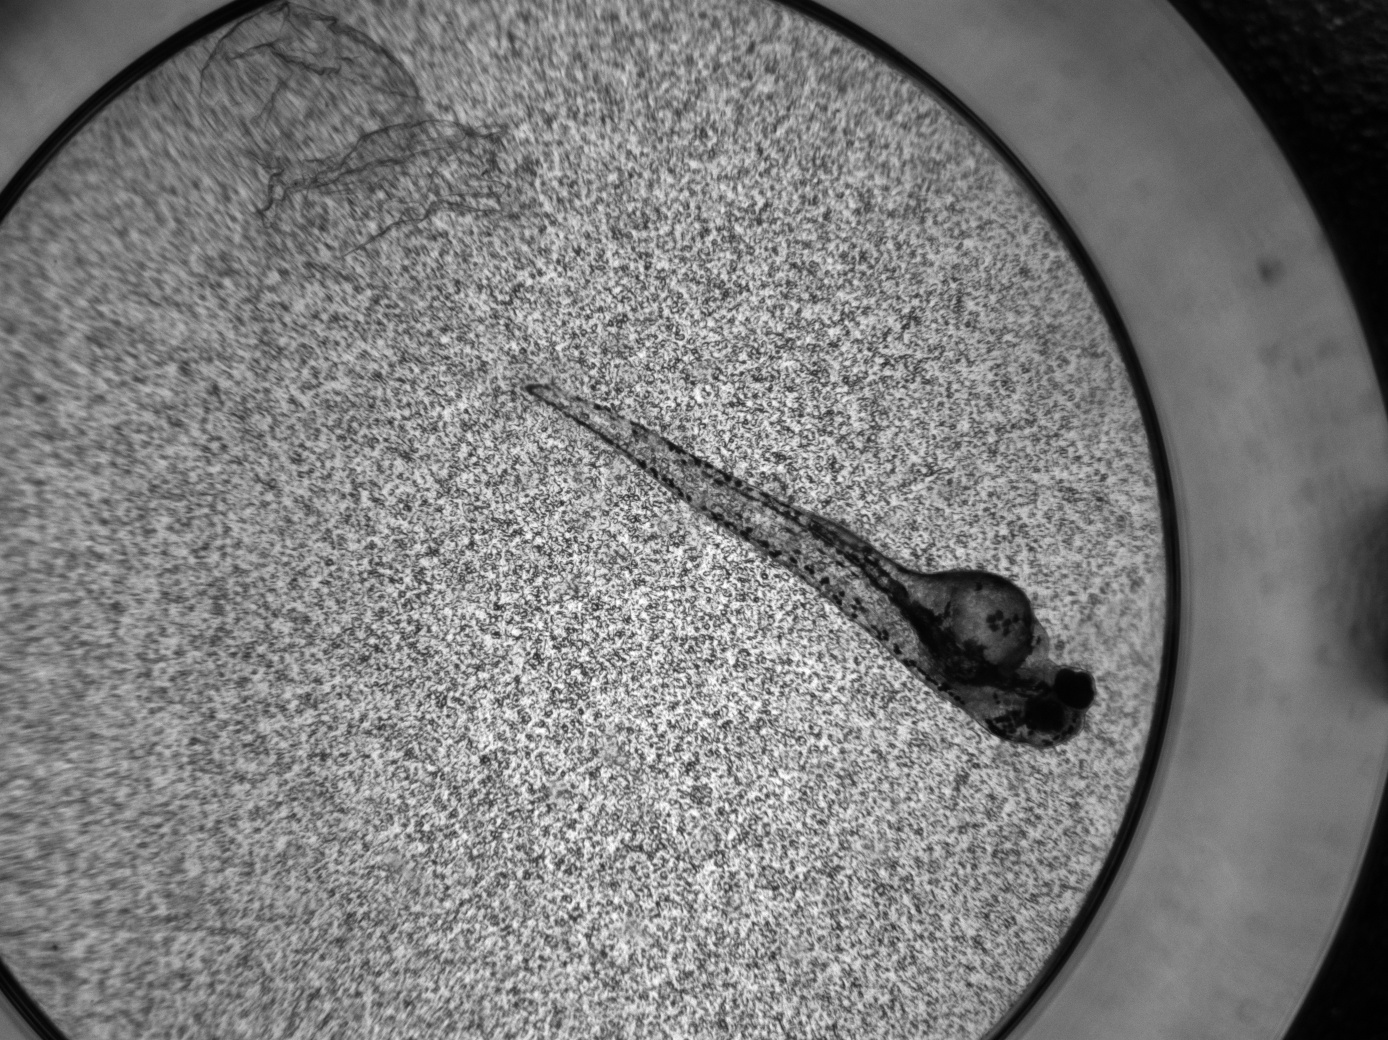debris: (200, 2, 500, 215)
embryo: (517, 381, 1095, 751)
eye: (1055, 667, 1095, 711), (1024, 698, 1064, 732)
yolksac: (915, 570, 1048, 684)
